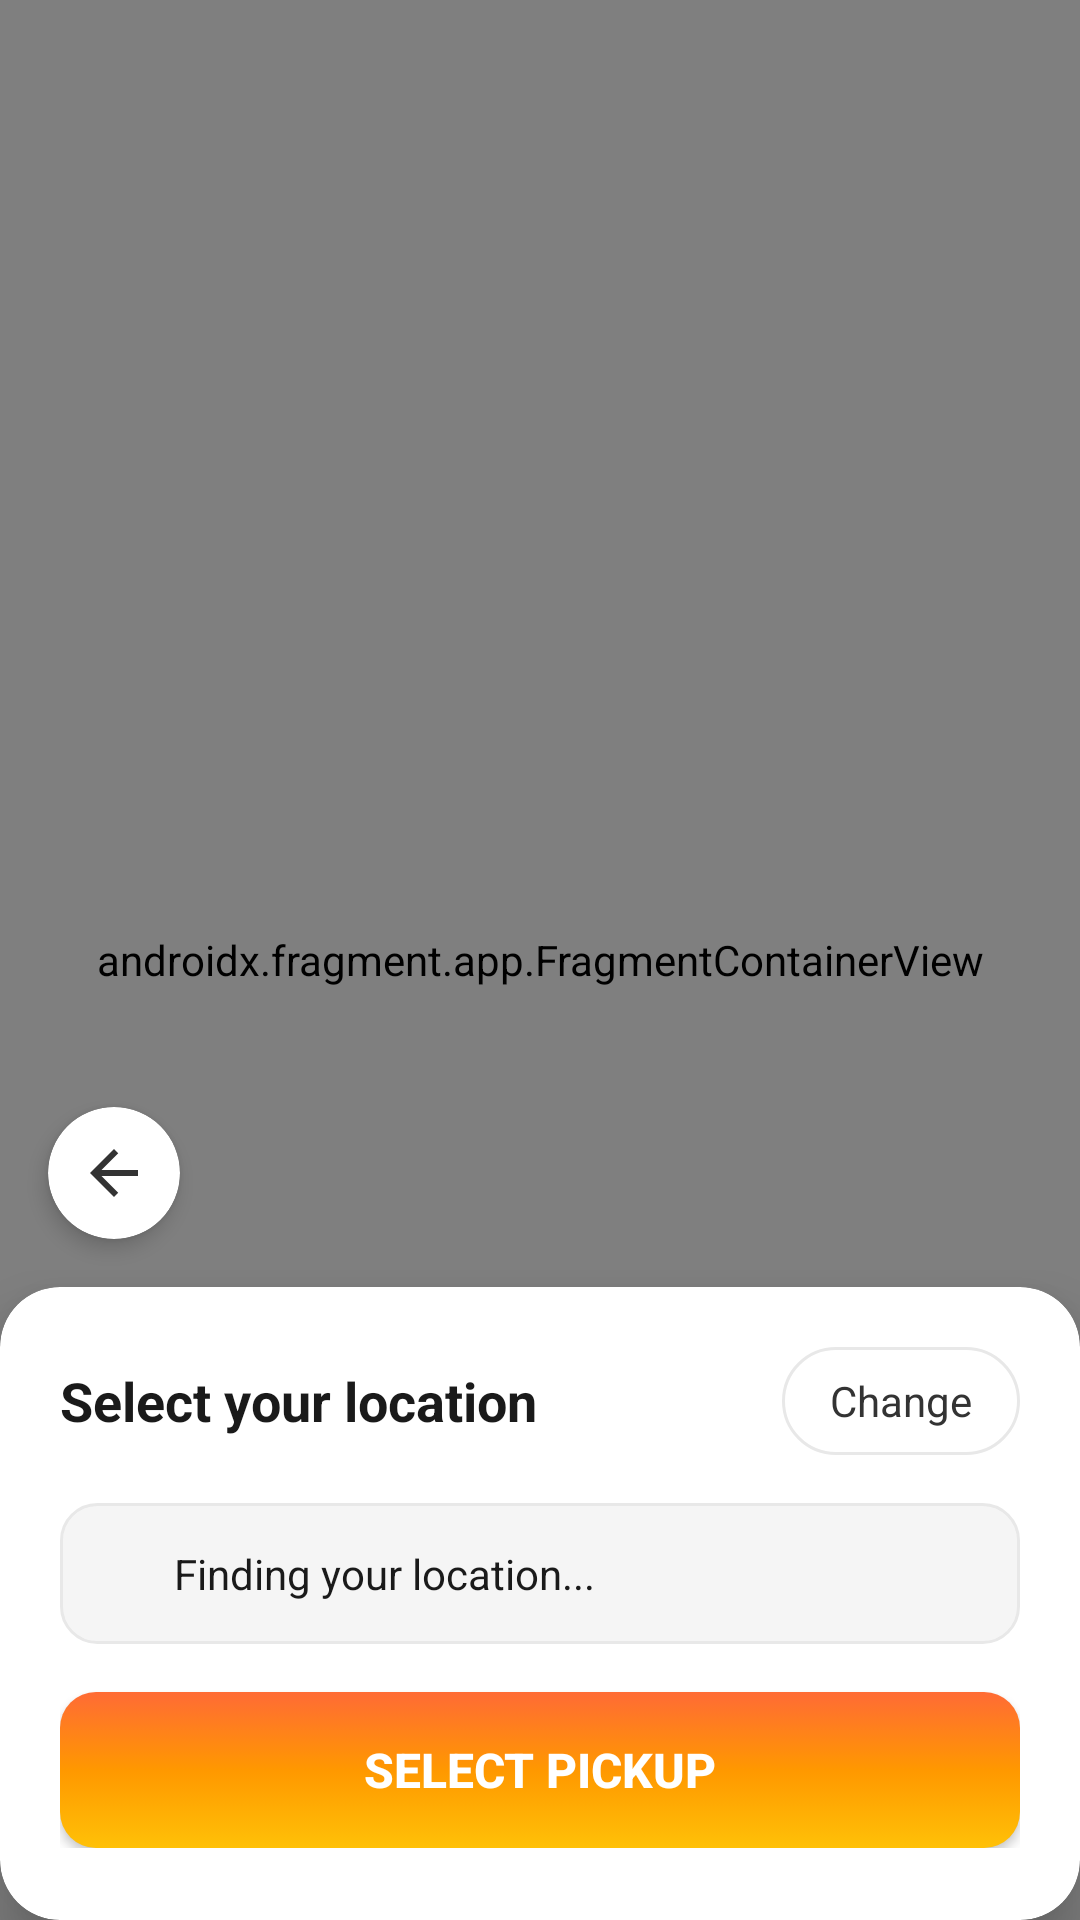

Where icons sit on this 1080px x 1920px app screen, as (left=x1, top=y1, right=x2, bottom=y2):
Go back: (left=48, top=1107, right=180, bottom=1239)
